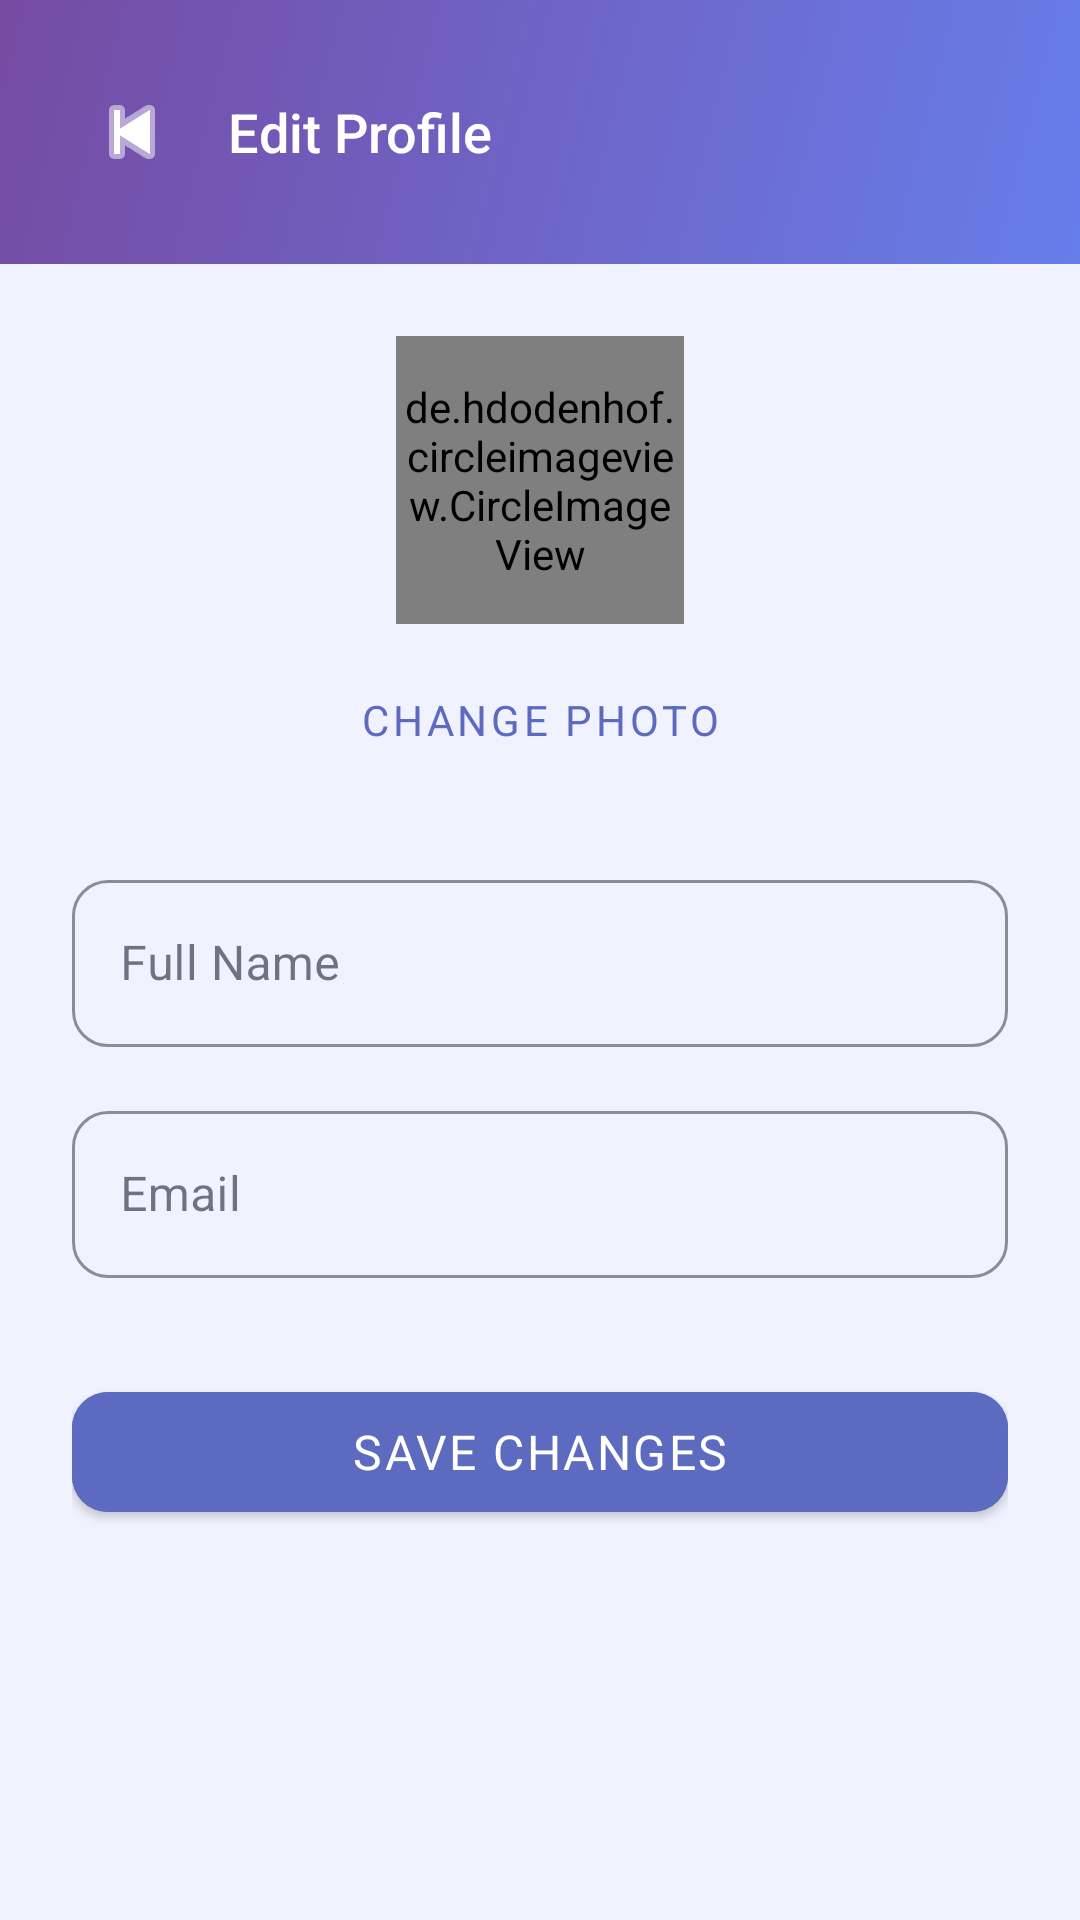

Named icons in this screenshot (1080px x 1920px) and their centers, (x=x, y=y):
Back: (x=132, y=132)
